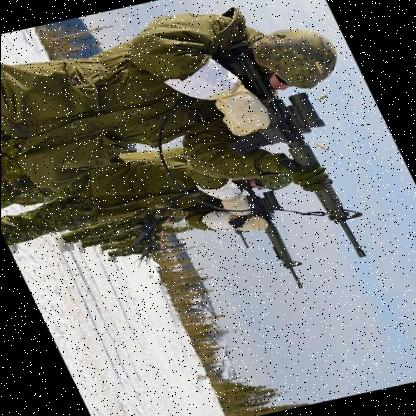rifle: (204, 35, 385, 268), (220, 176, 324, 299)
